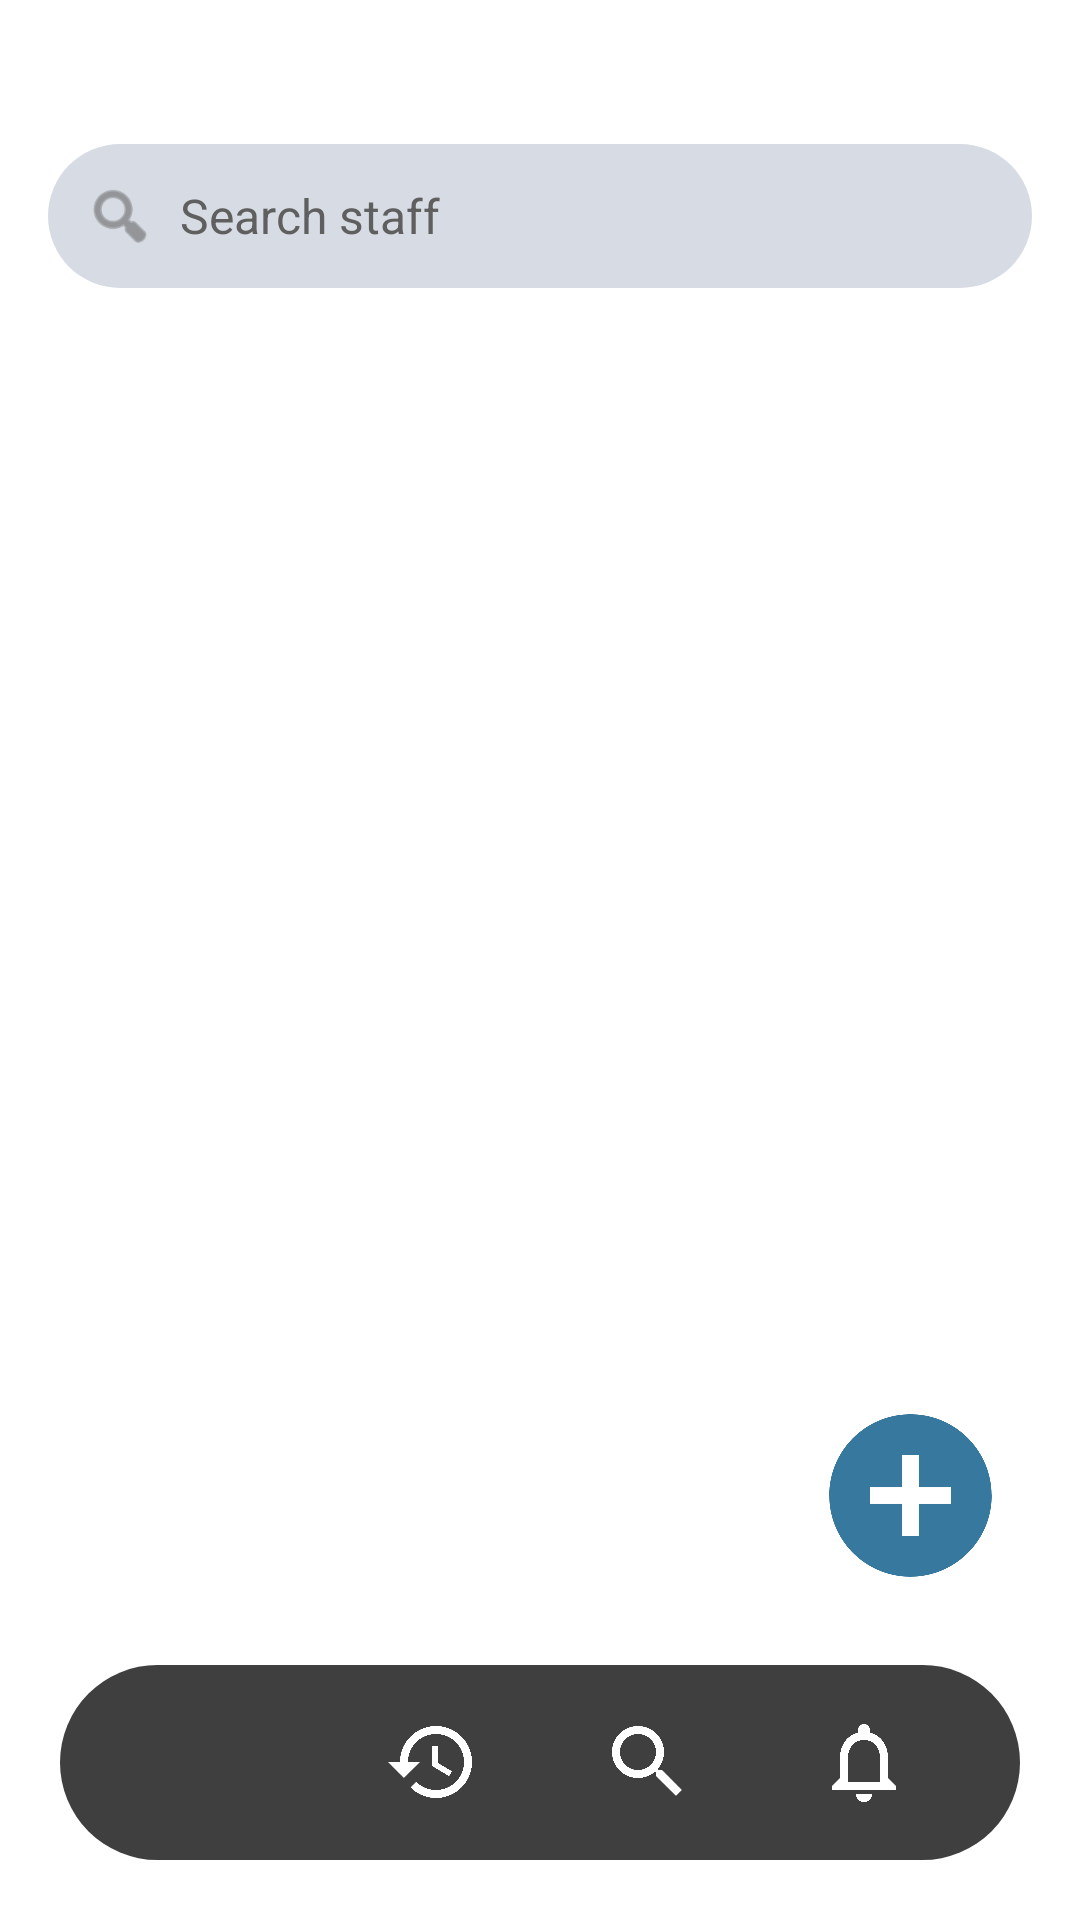

Screen size 1080w x 1920h. Icon name, then its center in pixels as point (x, y):
add circle: point (910, 1495)
history: point (430, 1762)
notifications none: point (864, 1763)
